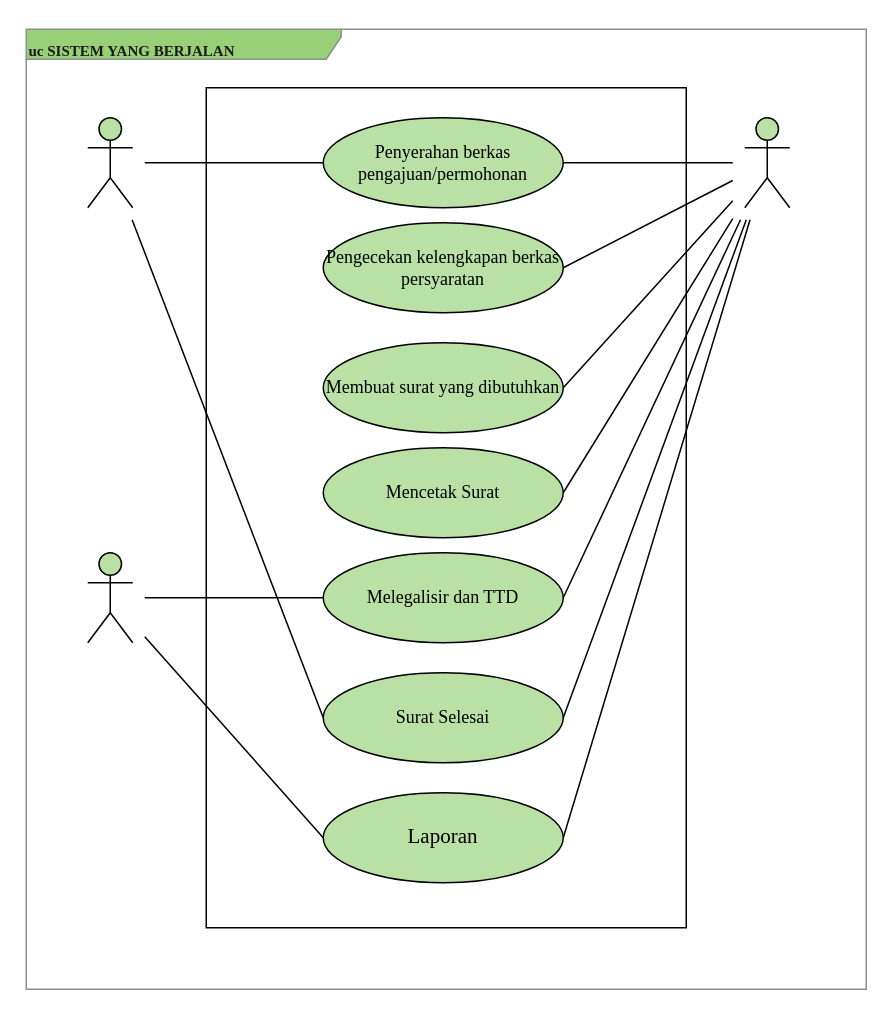
Some shapes in this 893 by 1016 pixel diagram are drawn without their labels. Here are the shapes that lost their labels. From the top down, the centre of each, then its label:
At point 109,162: "Pemohon".
At point 766,162: "Staff Administrasi".
At point 109,597: "Kepala Desa".
